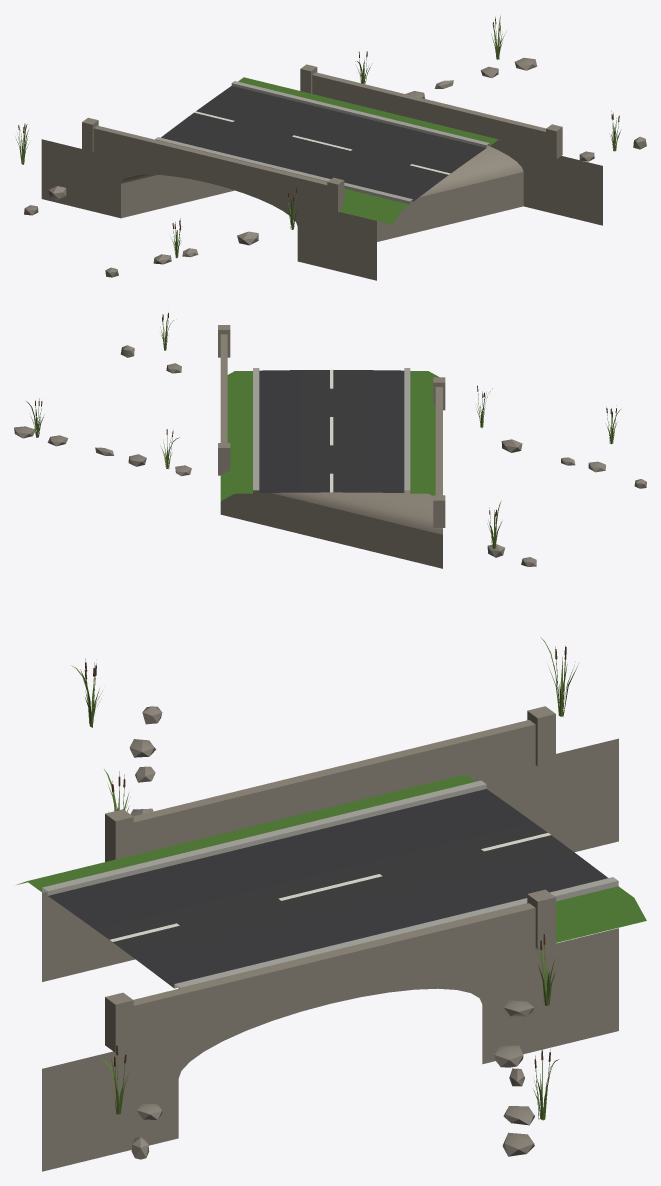
File: river_road_bridge_center.glb
The picture shows the model from 3 angles, top to bottom: view 1: azimuth 30°, elevation 25°; view 2: azimuth 150°, elevation 25°; view 3: azimuth 270°, elevation 25°; orthographic projection. The views are drawn at different scales.
Visible parts, largest first — view 1: river_road_bridge_center_lod0; view 2: river_road_bridge_center_lod0; view 3: river_road_bridge_center_lod0.
Part boxes in pixels (<box>): river_road_bridge_center_lod0: <box>16,15,646,280</box>; river_road_bridge_center_lod0: <box>14,312,646,568</box>; river_road_bridge_center_lod0: <box>17,637,646,1171</box>.
Size of what is drawn, in the model's own units: 25.22 by 4.58 by 14.99.
